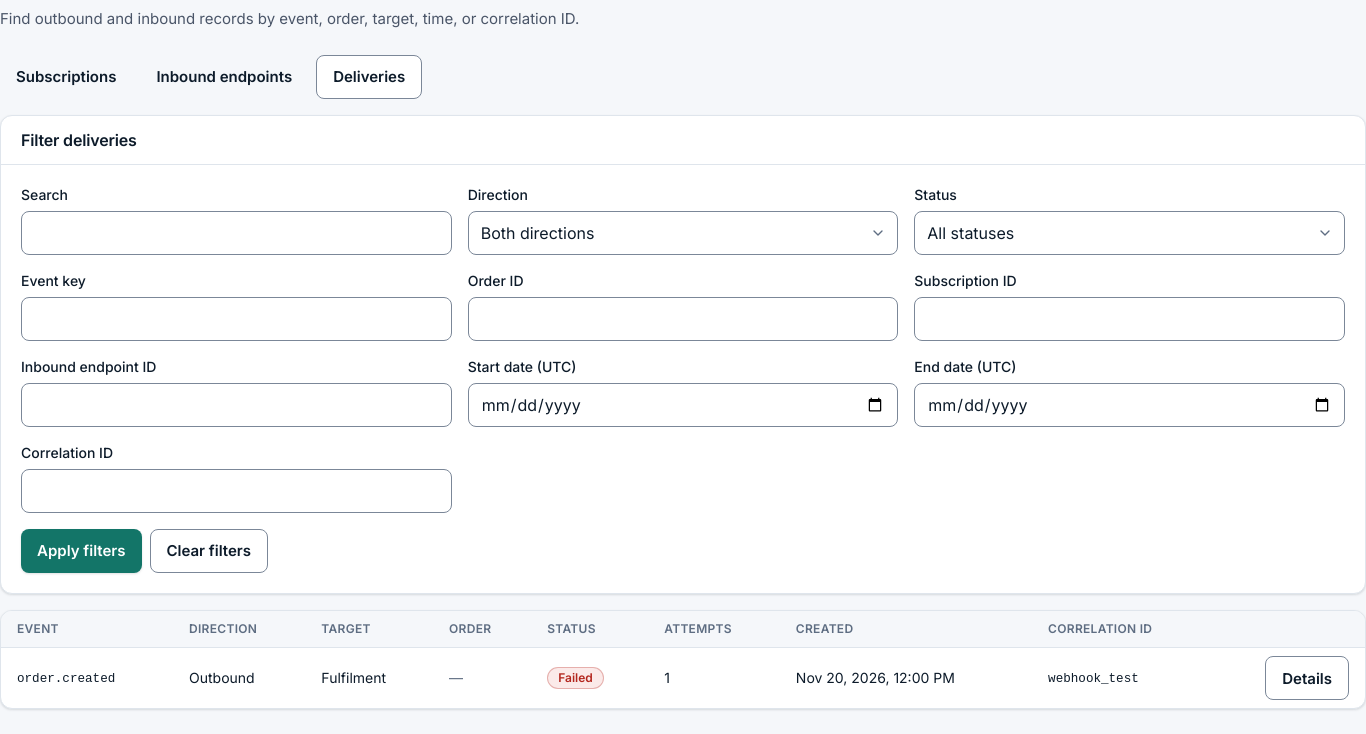
it: Webhooks administration › uses the inbound-specific action rather than outbound redelivery when reprocessing
Click the button "Details".
click(1307, 678)  # box left=1265, top=656, right=1349, bottom=700
(page scrolled)
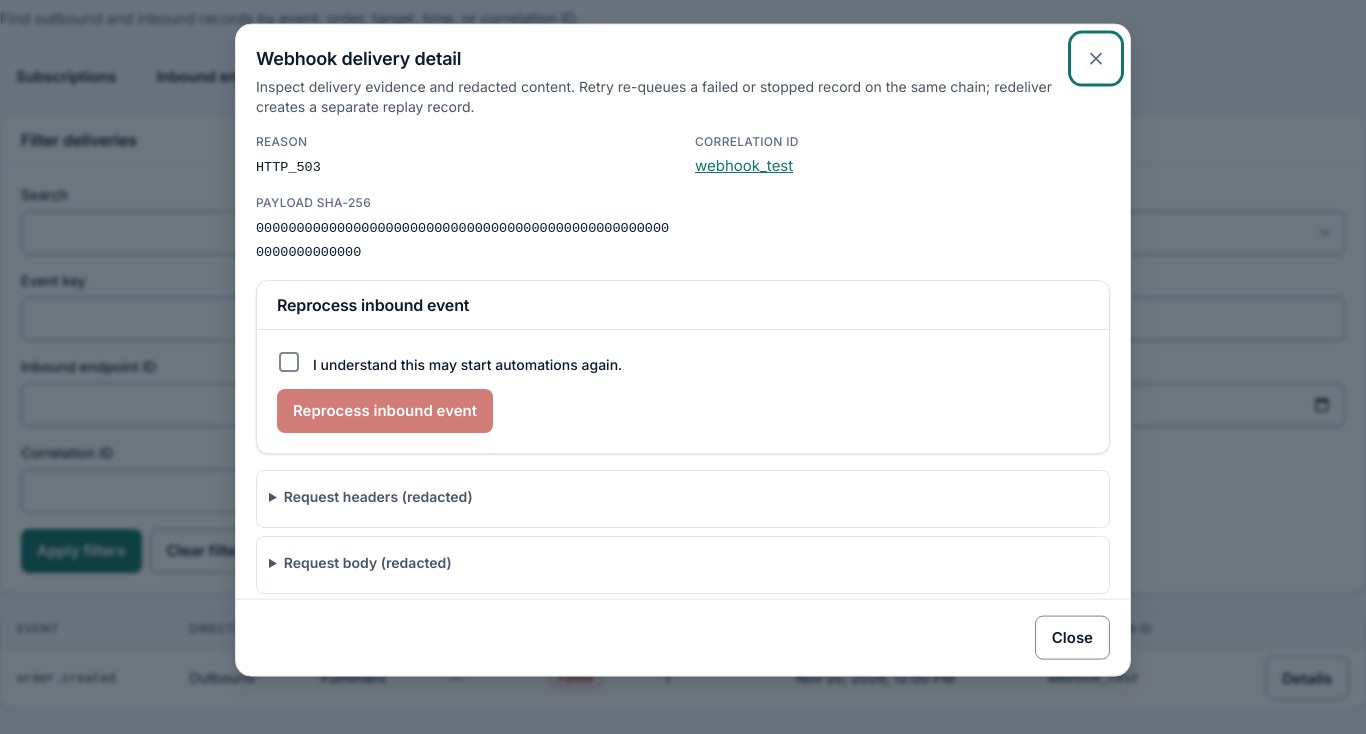
expect the button "Reprocess inbound event" is disabled: met, box left=277, top=389, right=493, bottom=433
Click the checkbox named "may start automations again".
click(289, 361)  # box left=279, top=351, right=299, bottom=371
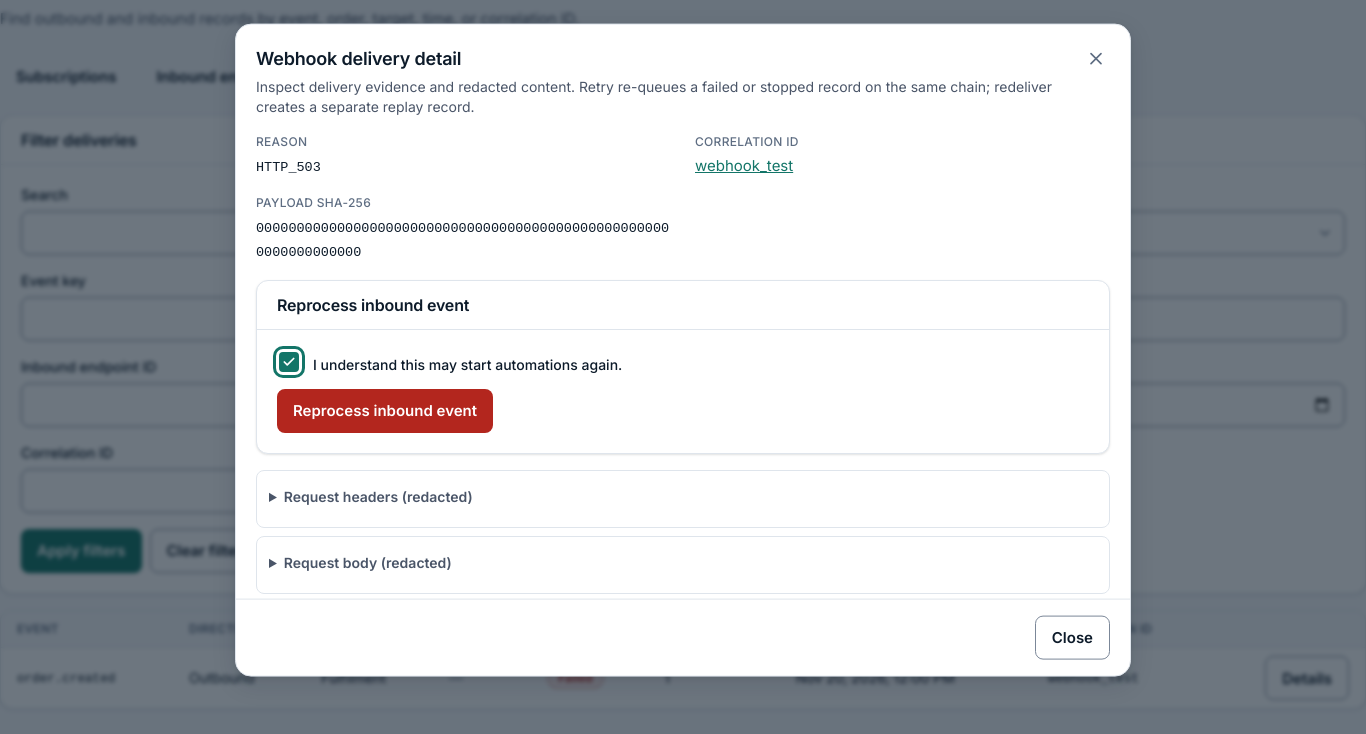
Click the button "Reprocess inbound event".
click(385, 411)  # box left=277, top=389, right=493, bottom=433
(page scrolled)
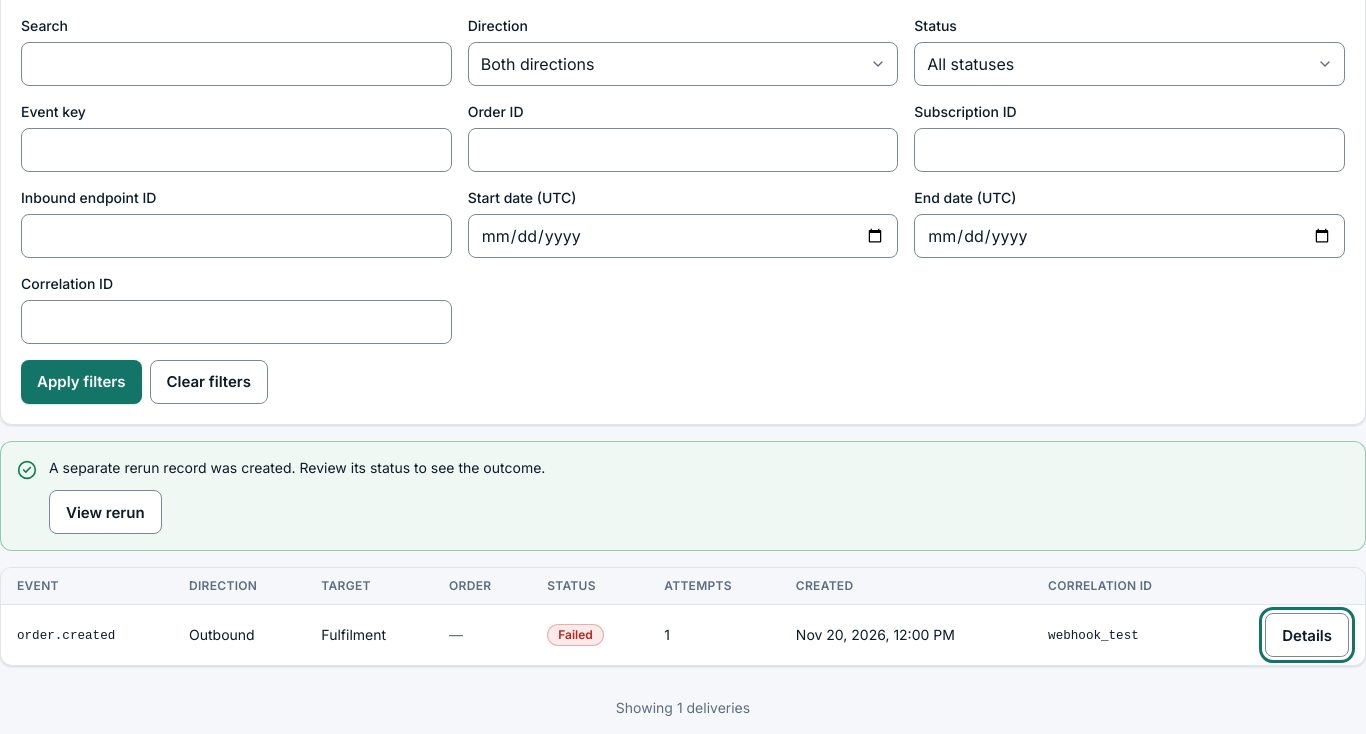
expect the button "View rerun" is shown: met, box left=49, top=490, right=162, bottom=534
